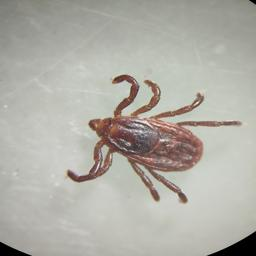Rhipicephalus sanguineus: (67, 75, 242, 204)
